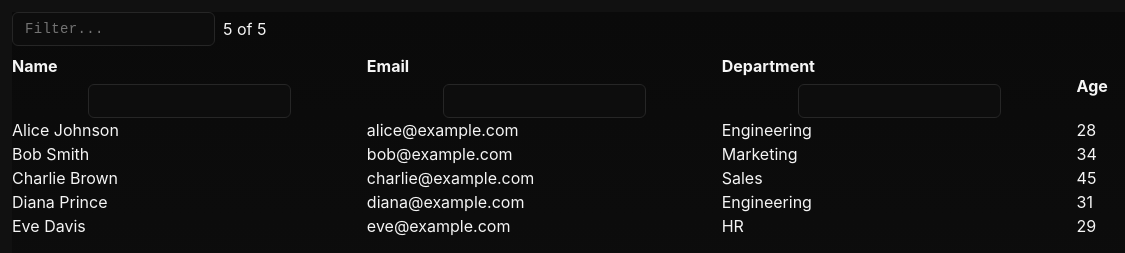
Test case: DataTable - Filtering › shows clear filter button when filter is active
Type "Alice" into the search field labelled "Filter..." at (114, 29), box x1=12 y1=12 x2=215 y2=46
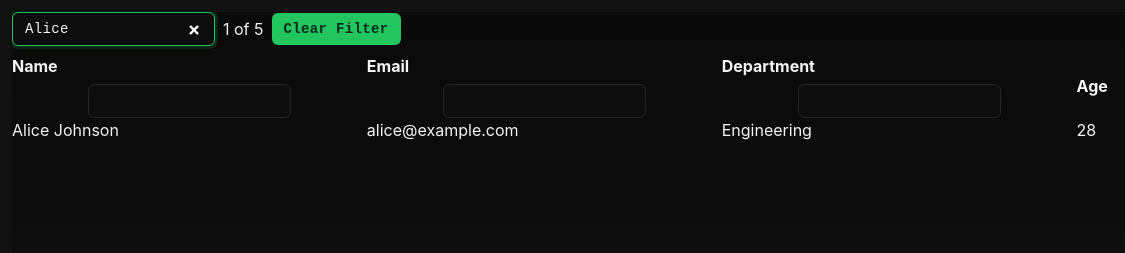
Result: the button "Clear Filter" is shown
Click the button "Clear Filter" at (336, 29), box x1=272 y1=13 x2=400 y2=45
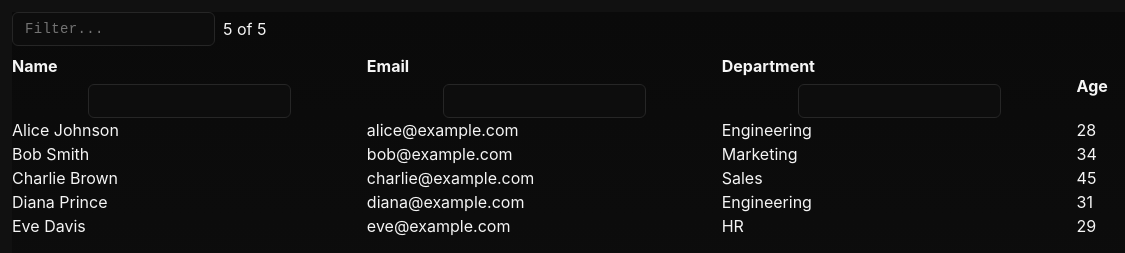
Result: the text "Bob Smith" is shown at x1=12 y1=144 x2=89 y2=164
